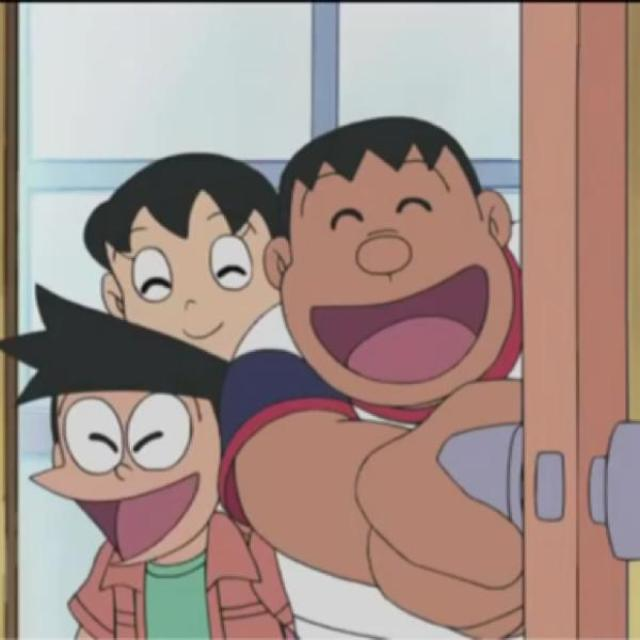jaian: (271, 123, 514, 402)
shizuka: (90, 149, 291, 354)
suneo: (17, 314, 230, 568)
